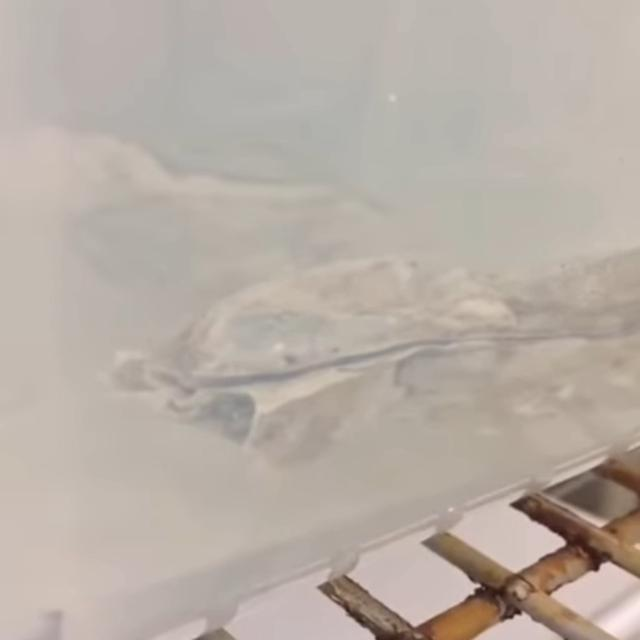Oyster-Closed: (105, 250, 640, 469)
Oyster-Indeterminate: (49, 116, 356, 236)
